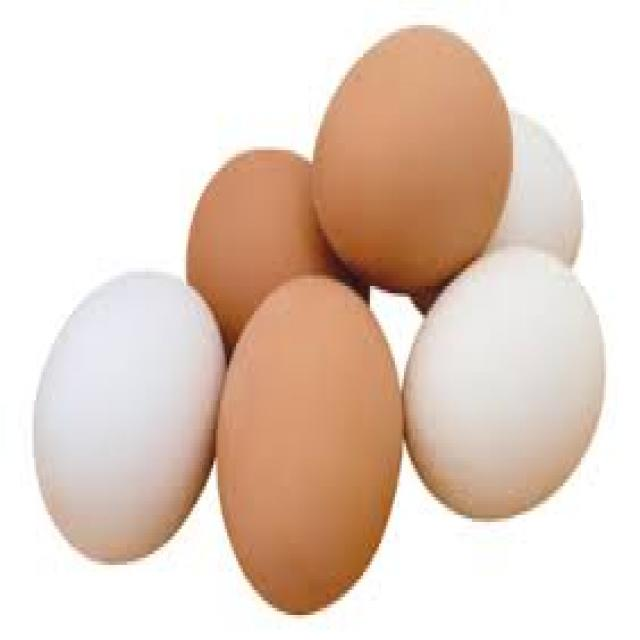Egg: (218, 275, 404, 613), (34, 275, 227, 560), (404, 247, 606, 517), (313, 25, 513, 291)
